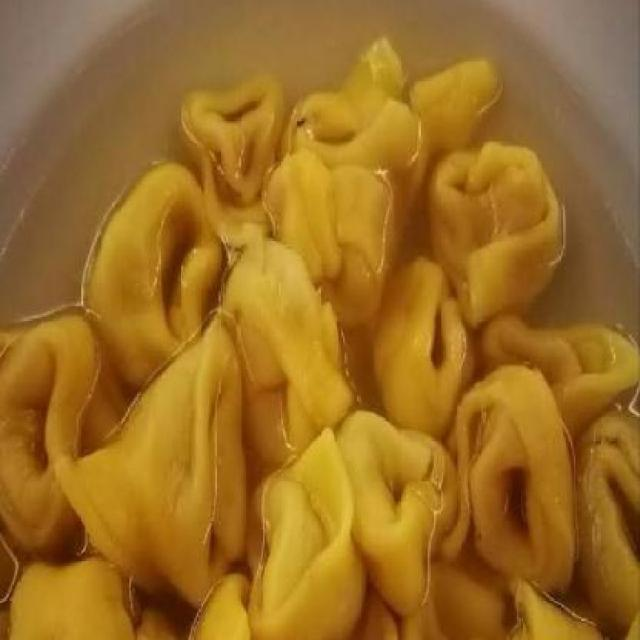Tortellini in broth: (65, 76, 604, 610)
